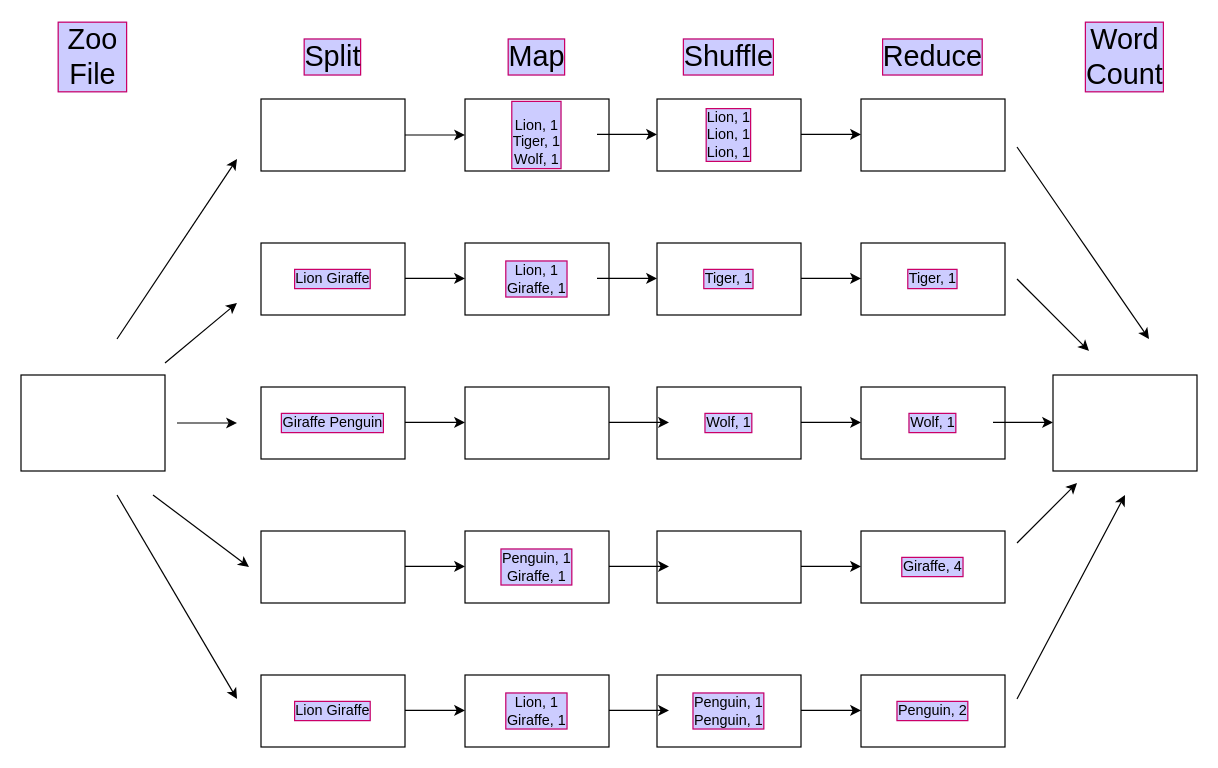
Image size: 1218x768. Some labels were removed from this diagram. Each missing label, with the box of its shape:
Giraffe, 1 Giraffe, 1 Giraffe, 1 Giraffe, 1: (656, 530, 801, 603)
Giraffe, 1 Penguin, 1: (464, 386, 609, 459)
Lion Tiger Wolf: (260, 98, 405, 171)
Lion Tiger Wolf Lion Giraffe Giraffe Penguin Penguin Giraffe Lion Giraffe: (20, 374, 165, 471)
Lion, 3: (860, 98, 1005, 171)
Lion, 3 Tiger, 1 Wolf, 1 Giraffe, 4 Penguin, 2: (1052, 374, 1197, 471)
Penguin Giraffe: (260, 530, 405, 603)
